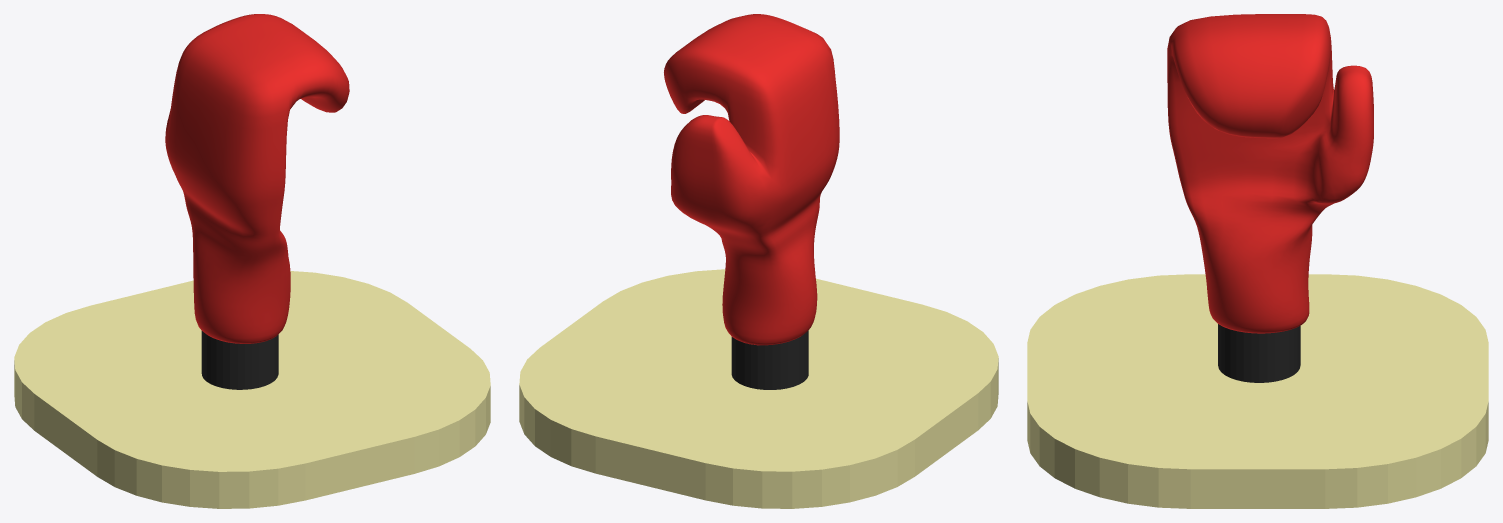
Rendered from Fist.fbx.
3 renders of one model, left to right at view 1: azimuth 30°, elevation 25°; view 2: azimuth 150°, elevation 25°; view 3: azimuth 270°, elevation 25°, orthographic. The views are drawn at different scales.
Parts seen in each view (by area): view 1: Cube.008, Cube.012, Cube.013; view 2: Cube.008, Cube.012, Cube.013; view 3: Cube.008, Cube.012, Cube.013.
Part boxes in pixels (box(x1,y1,x2,y2)): Cube.008: box(14, 271, 490, 508); Cube.012: box(165, 14, 349, 343); Cube.013: box(201, 331, 278, 389); Cube.008: box(519, 269, 998, 508); Cube.012: box(664, 14, 839, 345); Cube.013: box(731, 330, 808, 389); Cube.008: box(1027, 274, 1488, 508); Cube.012: box(1167, 14, 1373, 333); Cube.013: box(1218, 324, 1300, 382).
Size of the model in its own units: 0.5 by 0.4716 by 0.5.
